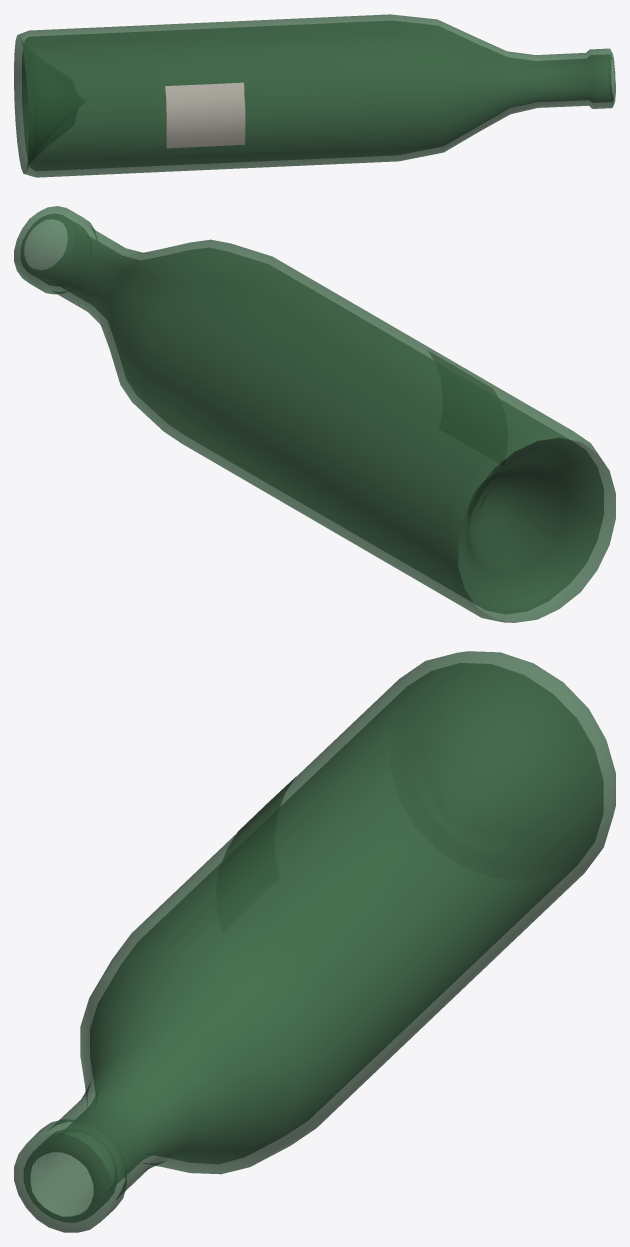
File: bottle_wine.glb
3 renders of one model, top to bottom at view 1: azimuth 30°, elevation 25°; view 2: azimuth 150°, elevation 25°; view 3: azimuth 270°, elevation 25°, orthographic. The views are drawn at different scales.
Parts seen in each view (by area): view 1: bottle_wine; view 2: bottle_wine; view 3: bottle_wine.
Boxes of the visible parts, x1=… form: bottle_wine: x1=14, y1=14, x2=615, y2=177; bottle_wine: x1=14, y1=206, x2=615, y2=622; bottle_wine: x1=14, y1=651, x2=615, y2=1232.
Size of the model in its own units: 0.2944 by 0.075 by 0.168.
